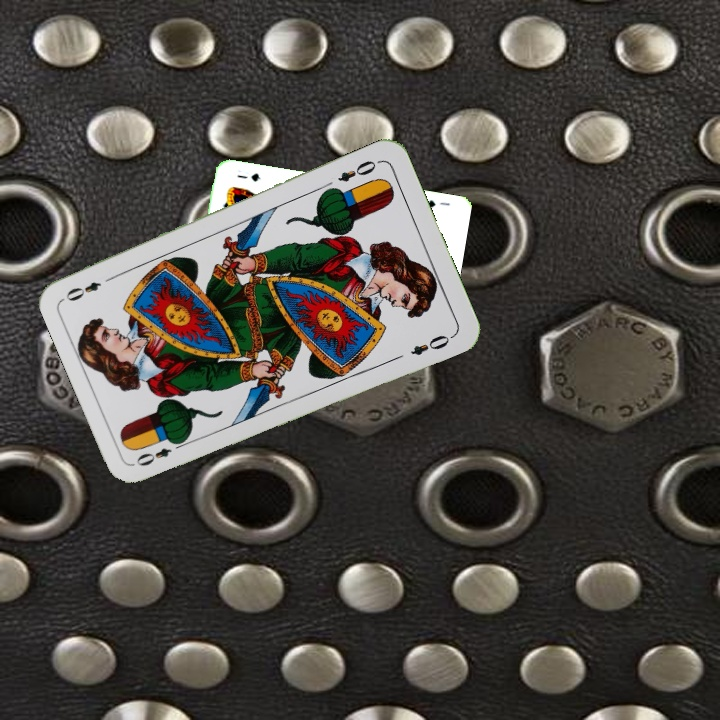EO: (132, 437, 188, 469), (334, 155, 383, 185)
GU: (424, 196, 452, 210)
